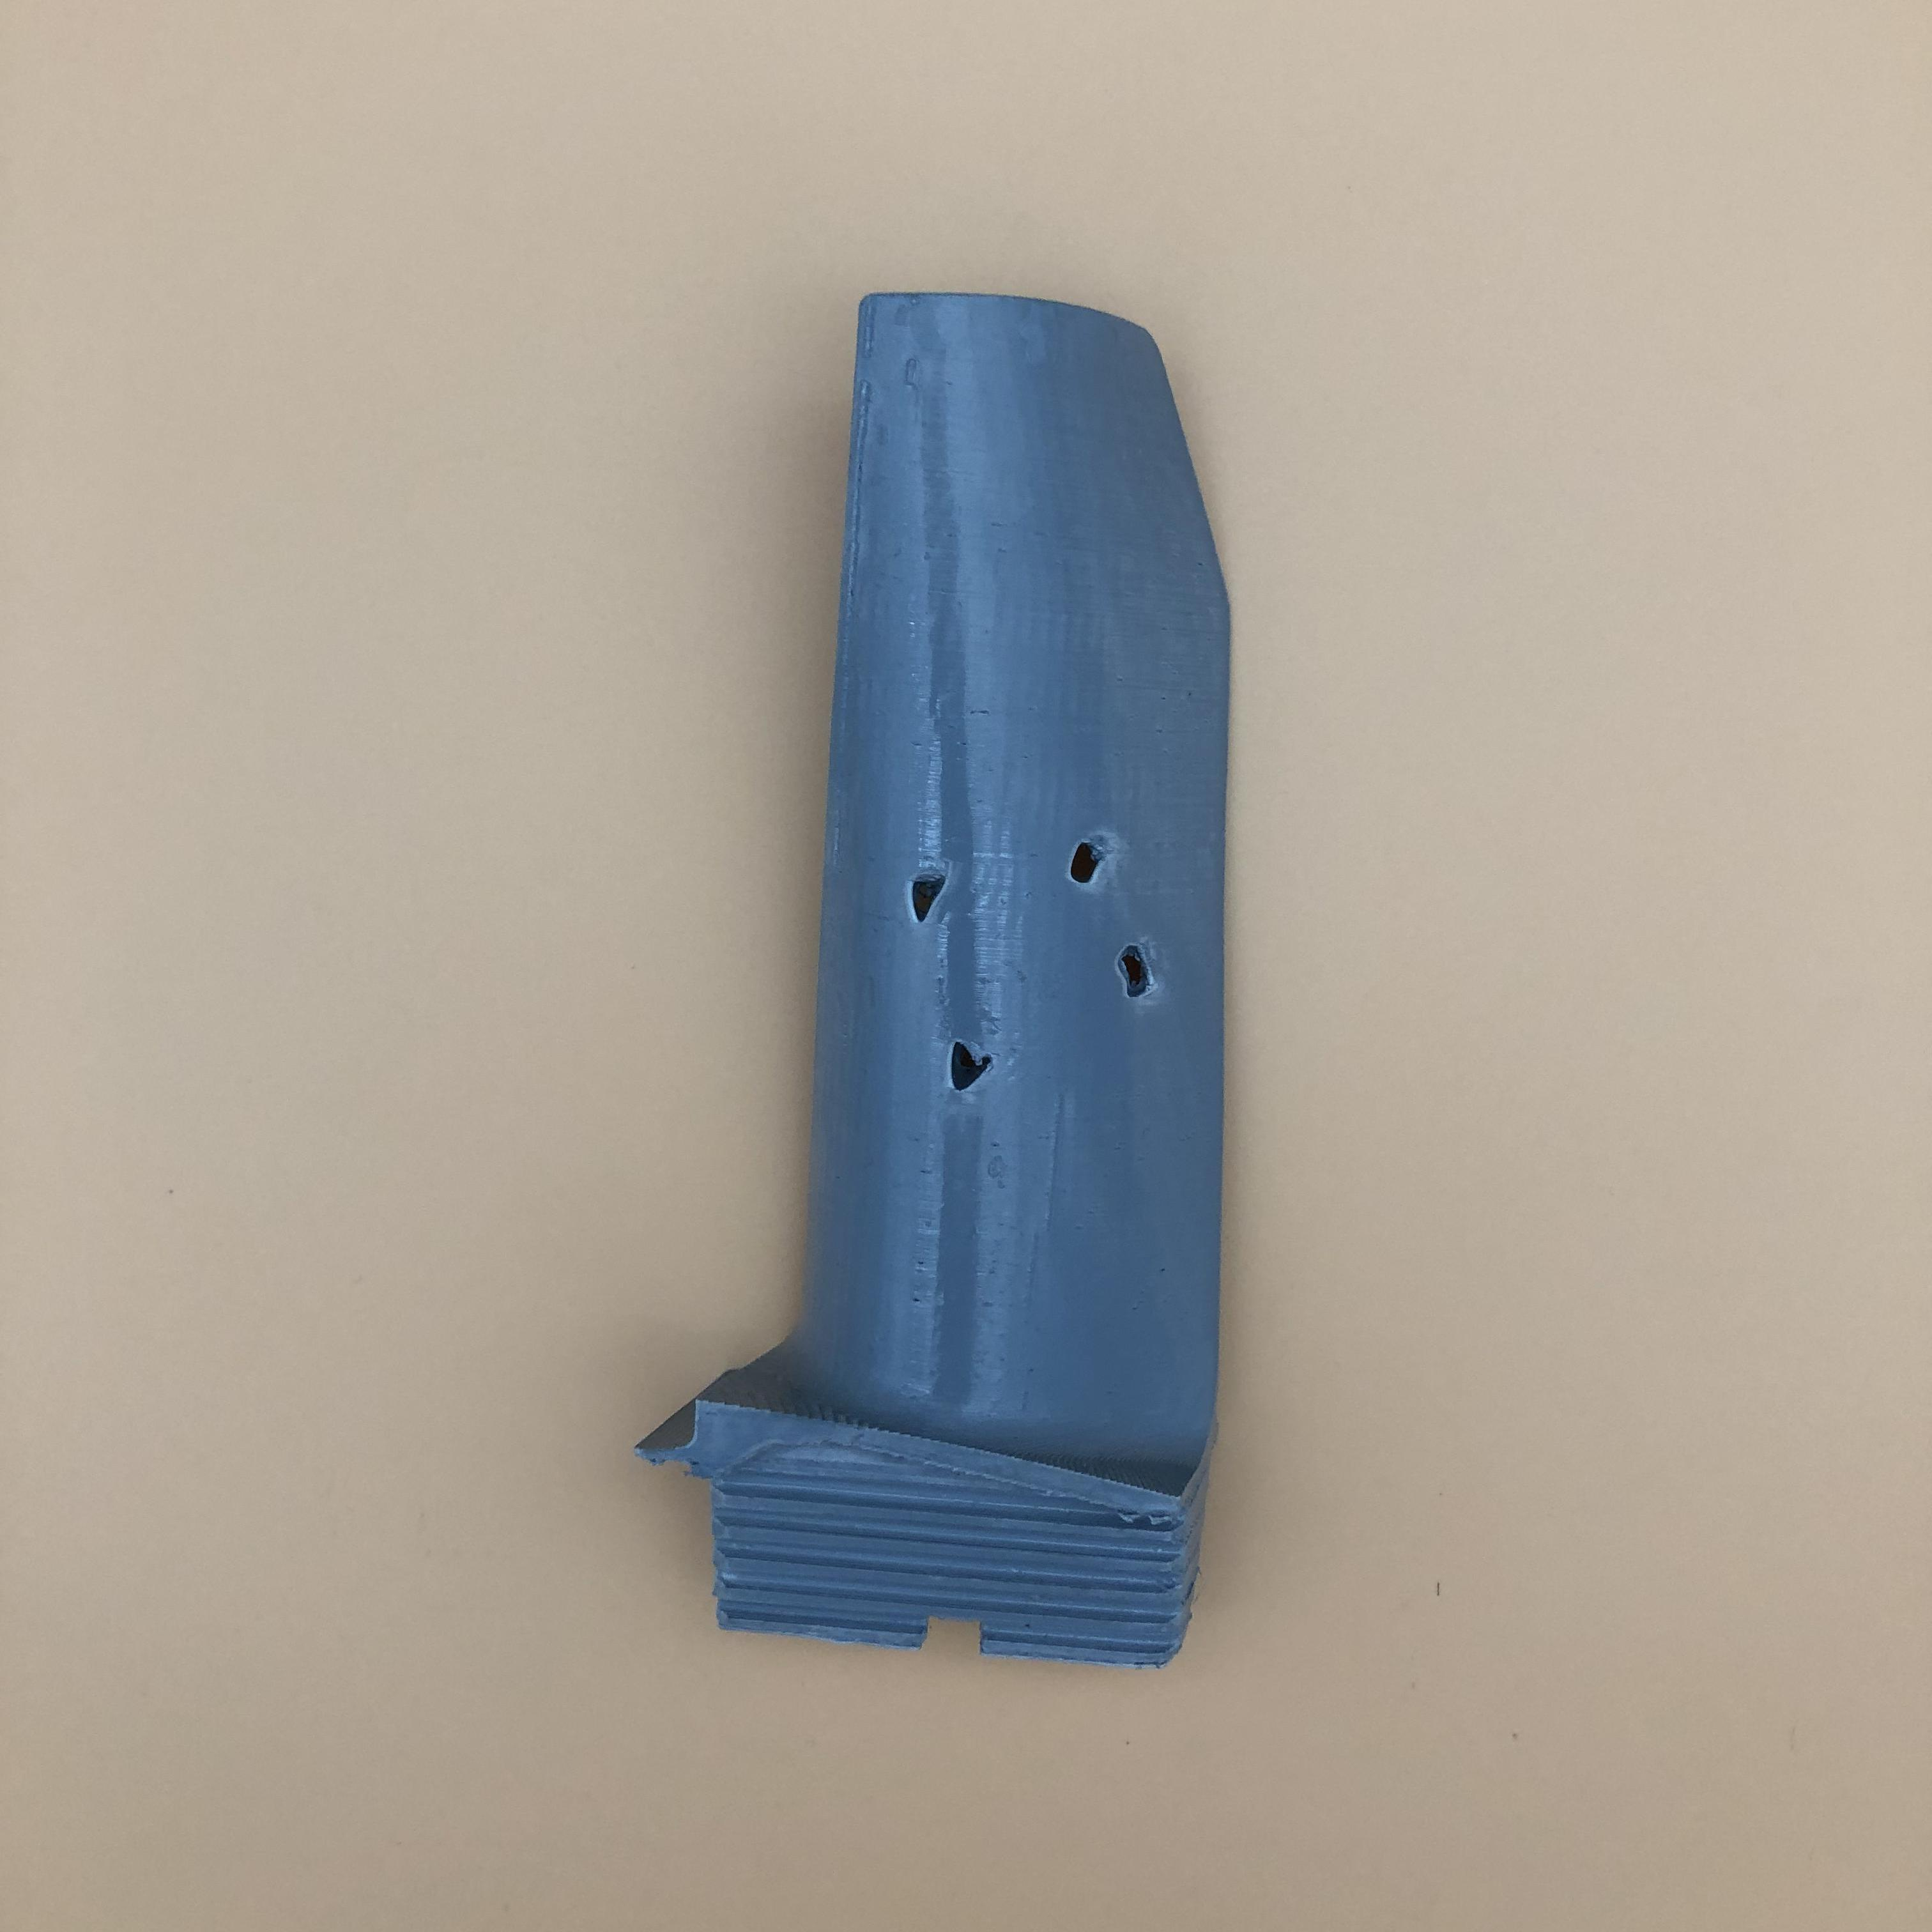breakdown: (893, 840, 1171, 1086)
